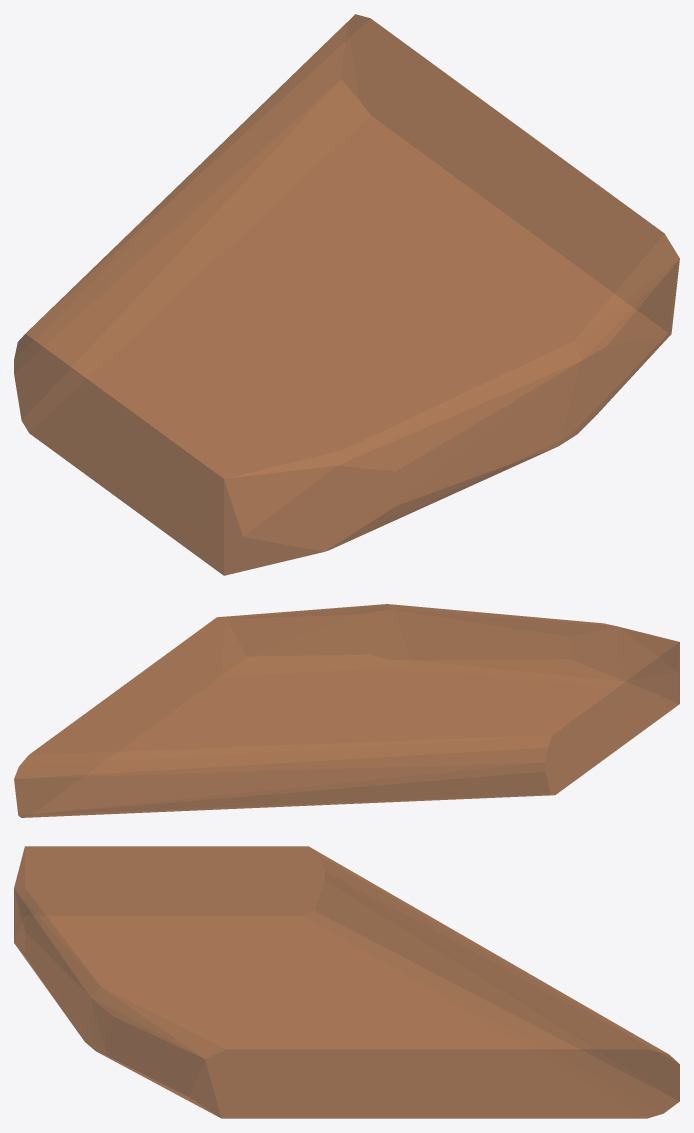
The picture shows the model from 3 angles, top to bottom: view 1: azimuth 30°, elevation 25°; view 2: azimuth 150°, elevation 25°; view 3: azimuth 270°, elevation 25°; orthographic projection. The views are drawn at different scales.
Parts seen in each view (by area): view 1: Shape_IndexedFaceSet.005_Shape_IndexedFaceSet.17157; view 2: Shape_IndexedFaceSet.005_Shape_IndexedFaceSet.17157; view 3: Shape_IndexedFaceSet.005_Shape_IndexedFaceSet.17157.
Boxes of the visible parts, <box> form: Shape_IndexedFaceSet.005_Shape_IndexedFaceSet.17157: <box>14,14,679,575</box>; Shape_IndexedFaceSet.005_Shape_IndexedFaceSet.17157: <box>14,604,679,817</box>; Shape_IndexedFaceSet.005_Shape_IndexedFaceSet.17157: <box>14,846,679,1118</box>.
Size of the model in its own units: 0.1489 by 0.0237 by 0.2064.
